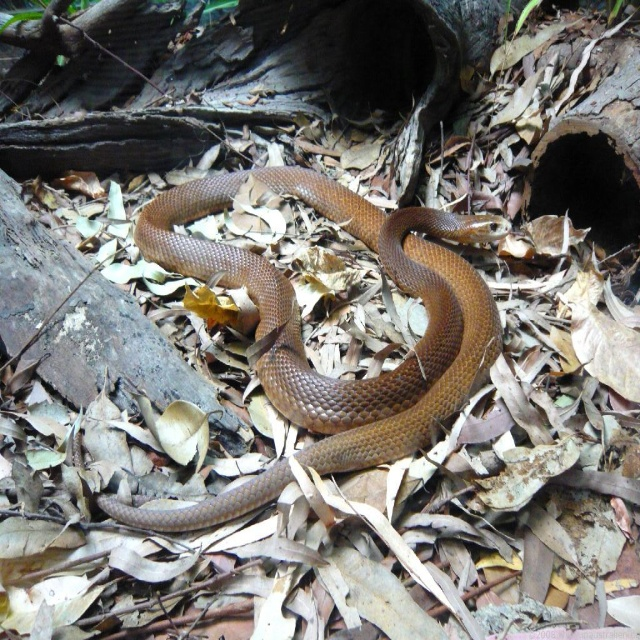Snake: (73, 165, 512, 532)
